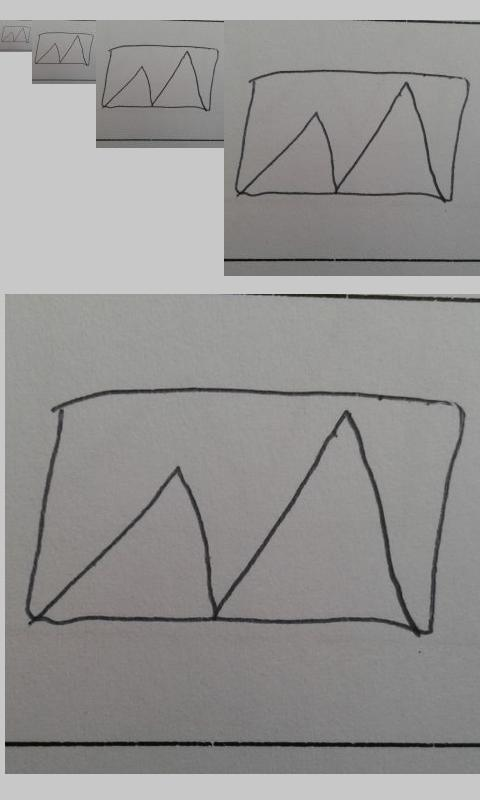image_view: (23, 384, 465, 641), (234, 68, 470, 206), (101, 44, 220, 113), (34, 31, 94, 67), (1, 25, 31, 44)
